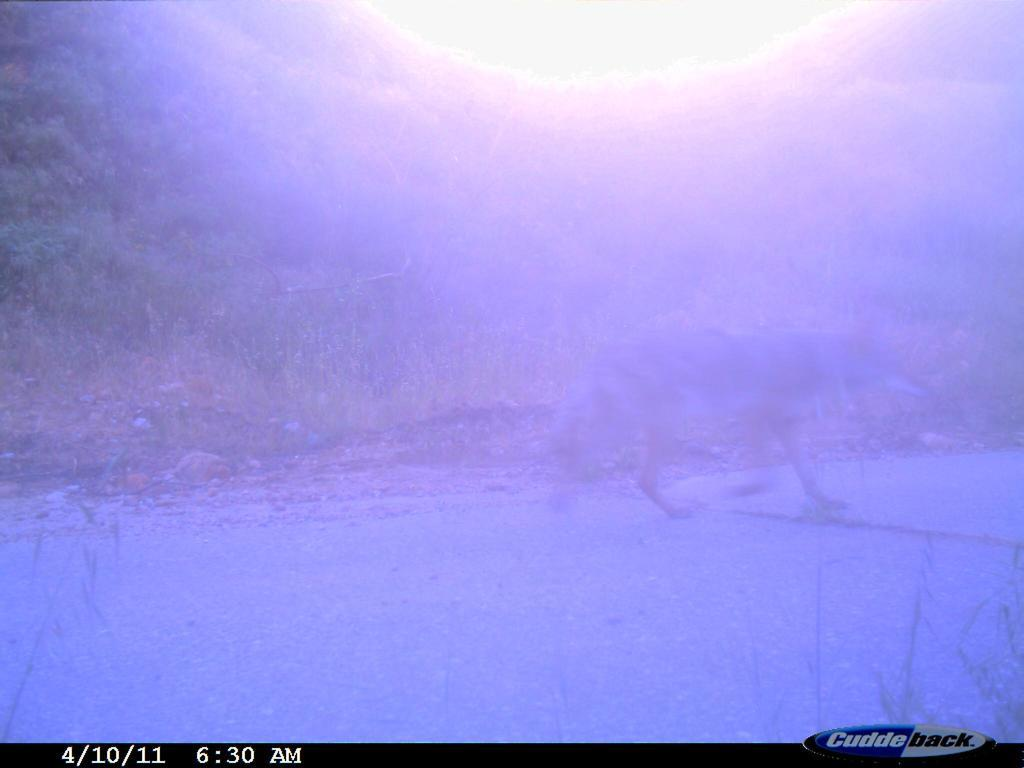coyote: (548, 310, 936, 524)
